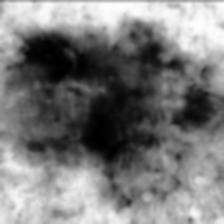Potentially Malignant Skin Tumors: (36, 86, 196, 162), (94, 14, 206, 86), (24, 34, 88, 80)
